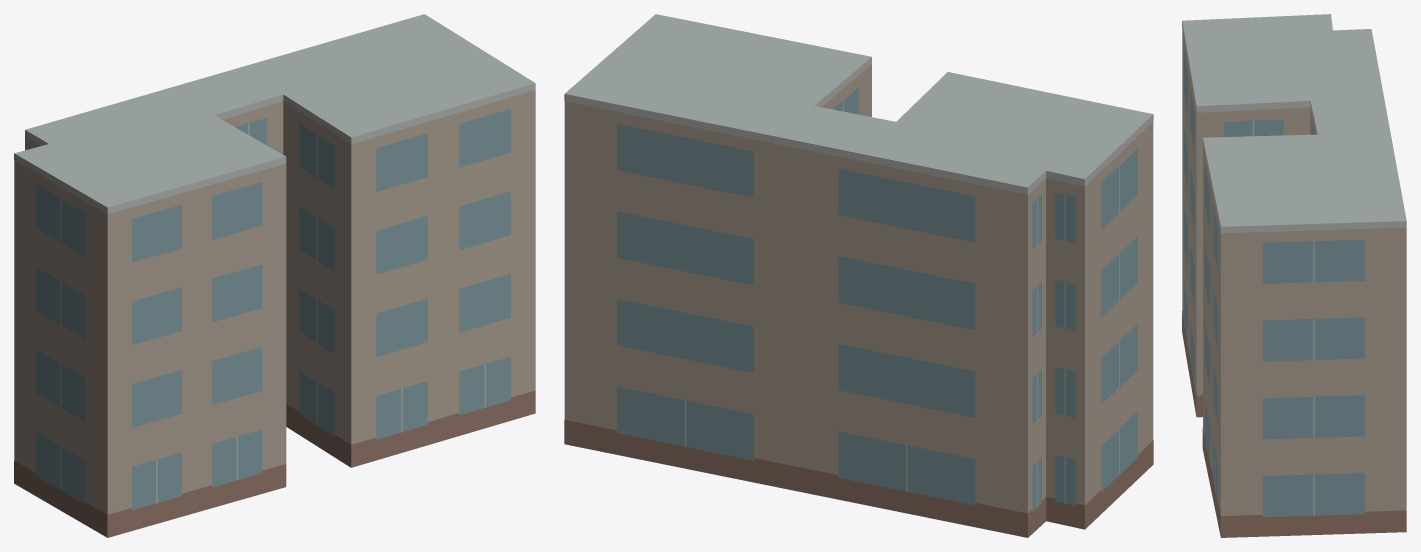
File: survey-upis-32963845.glb
The picture shows the model from 3 angles, left to right: view 1: azimuth 30°, elevation 25°; view 2: azimuth 150°, elevation 25°; view 3: azimuth 270°, elevation 25°; orthographic projection. The views are drawn at different scales.
Visible parts, largest first — view 1: survey-upis-32963845.tmp; view 2: survey-upis-32963845.tmp; view 3: survey-upis-32963845.tmp.
Part boxes in pixels (x1,y1,x2,y2): survey-upis-32963845.tmp: (14, 14, 535, 537); survey-upis-32963845.tmp: (564, 14, 1153, 537); survey-upis-32963845.tmp: (1182, 14, 1406, 537).
Bounding box in the file's own units: 17.18 × 11.7 × 7.67.
